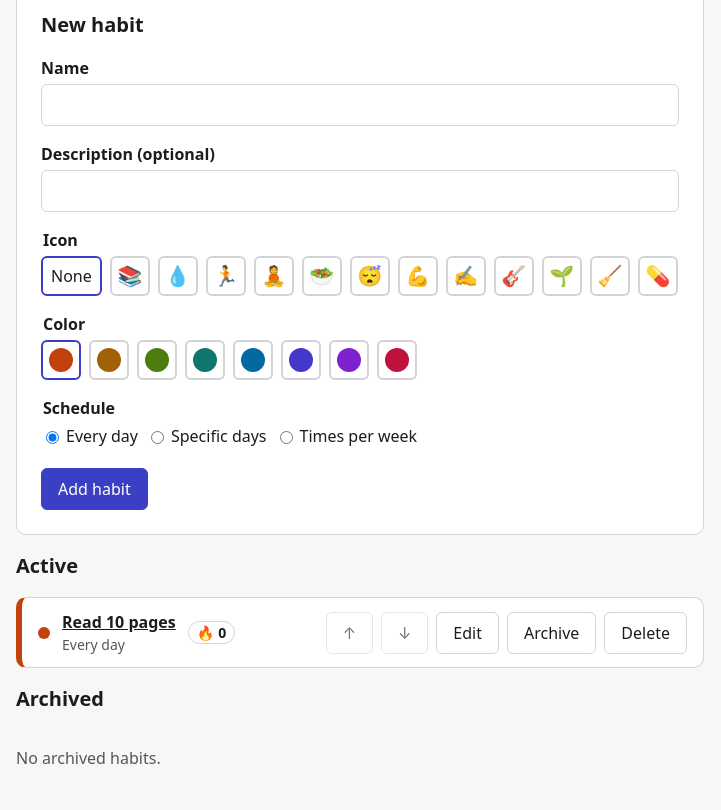
spec 002 US4 - Delete a habit › given the delete panel, when the exact name is typed and confirmed, then the habit is removed
(page scrolled)
Click the button with aria-label "Delete Read 10 pages".
click(646, 632)  # box x1=604 y1=612 x2=687 y2=654
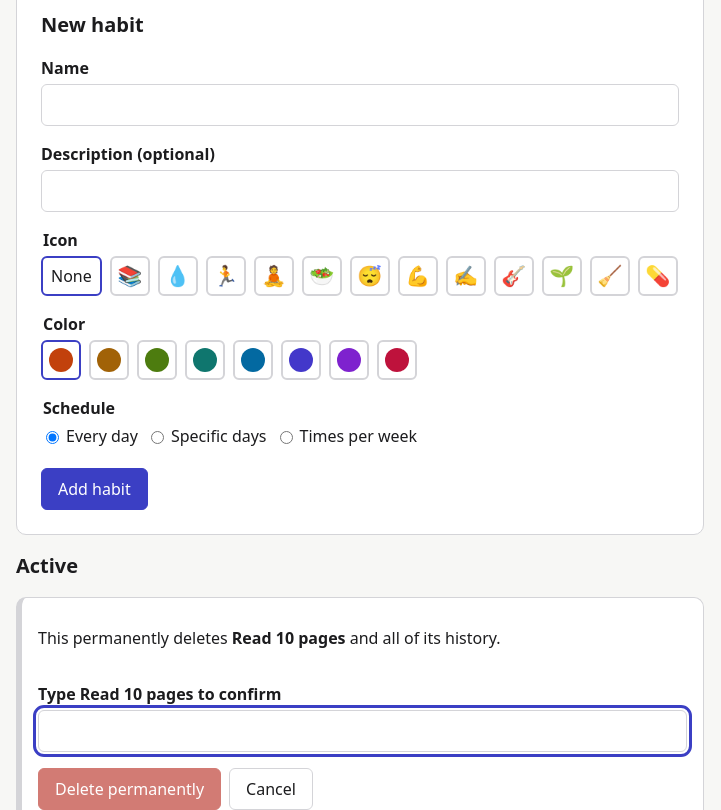
Now the button "Delete permanently" is disabled, box x1=38 y1=768 x2=221 y2=809
Type "Read 10 page" into the field labelled "Type Read 10 pages to confirm".
click(362, 731); type("Read 10 page")  # box x1=38 y1=710 x2=687 y2=752
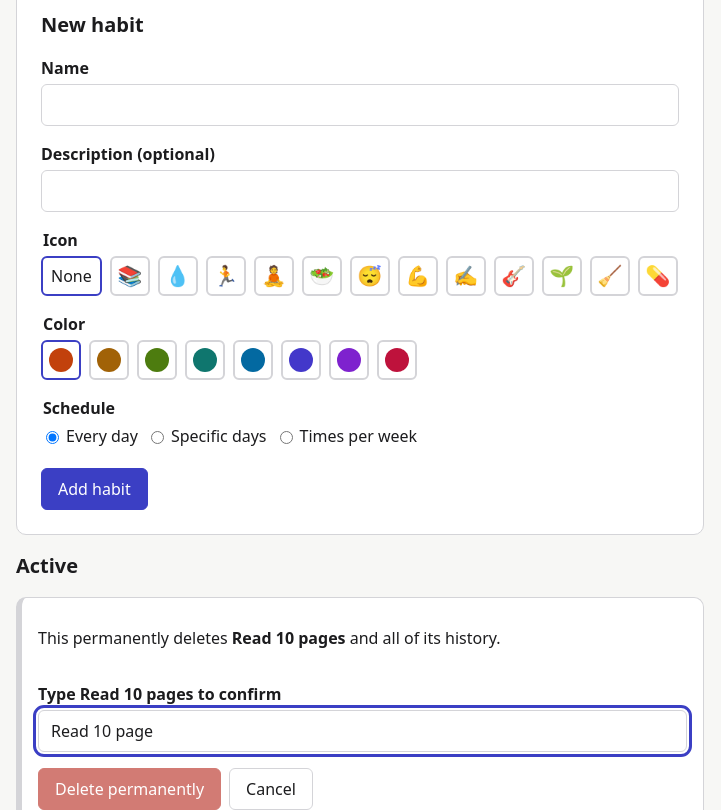
Now the button "Delete permanently" is disabled, box x1=38 y1=768 x2=221 y2=809
Type "s" into the field labelled "Type Read 10 pages to confirm".
click(362, 731); type("s")  # box x1=38 y1=710 x2=687 y2=752
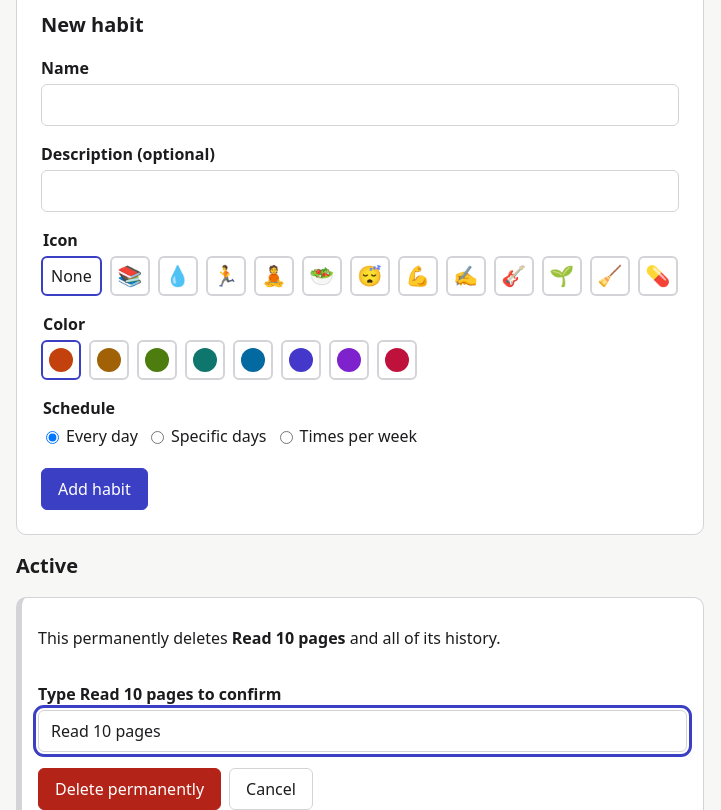
Now the button "Delete permanently" is enabled
Click the button "Delete permanently".
click(130, 789)  # box x1=38 y1=768 x2=221 y2=809
(page scrolled)
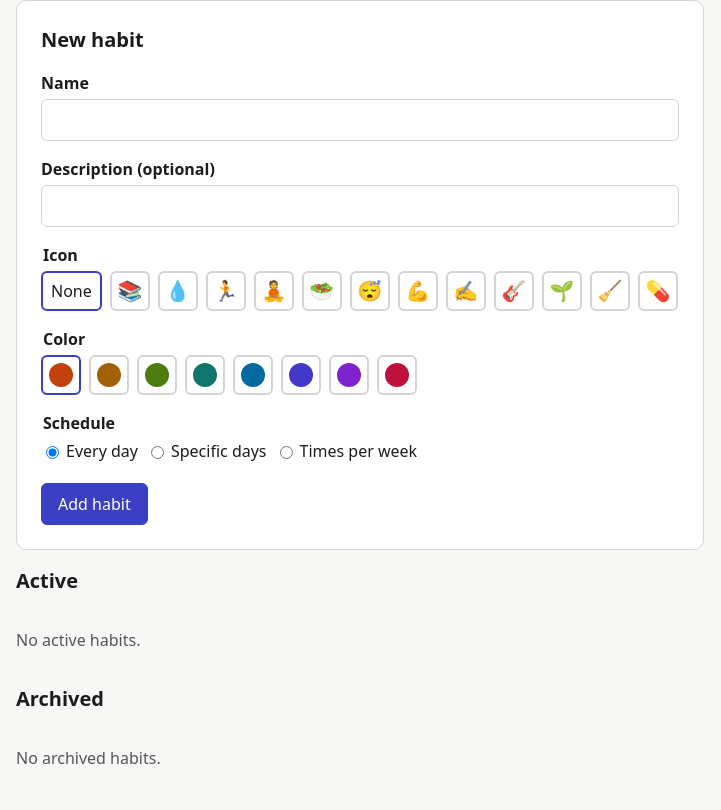
Now the text "No active habits." is shown, box x1=16 y1=629 x2=140 y2=651
